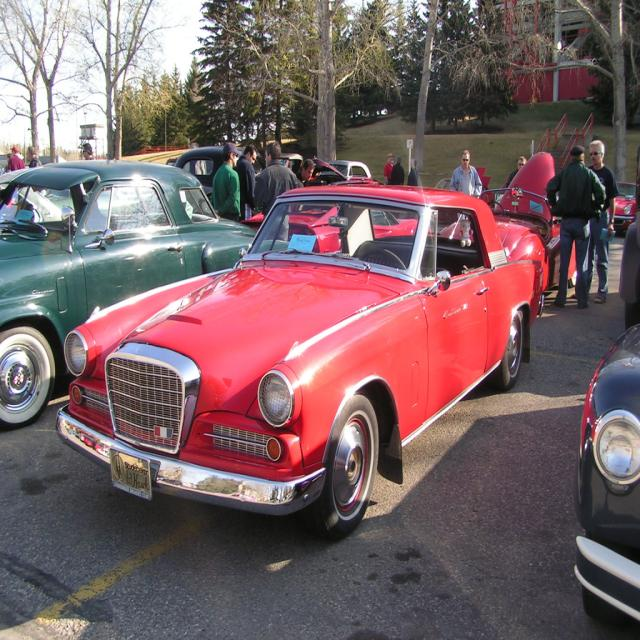car: (55, 177, 544, 543)
